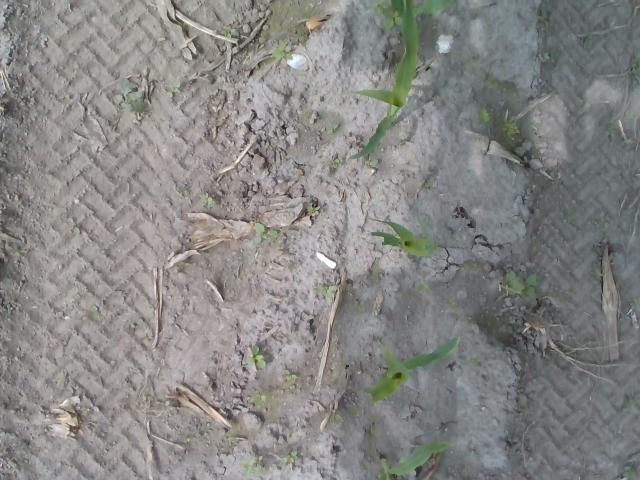Maize: (346, 0, 420, 163), (361, 336, 462, 403), (364, 212, 438, 261), (378, 440, 456, 479)
Weeds: (111, 76, 145, 112), (504, 268, 541, 297), (368, 0, 402, 28), (244, 343, 269, 370), (254, 221, 279, 244), (270, 42, 292, 60), (238, 460, 262, 476), (503, 118, 521, 138), (281, 450, 299, 466), (165, 80, 180, 96), (415, 279, 430, 294), (624, 464, 638, 480), (320, 284, 336, 298), (466, 353, 480, 367), (250, 392, 267, 403), (219, 25, 233, 38), (204, 194, 215, 208), (308, 204, 320, 216), (284, 370, 296, 382), (479, 111, 491, 123), (72, 226, 82, 237), (330, 159, 340, 168), (91, 304, 99, 314)
